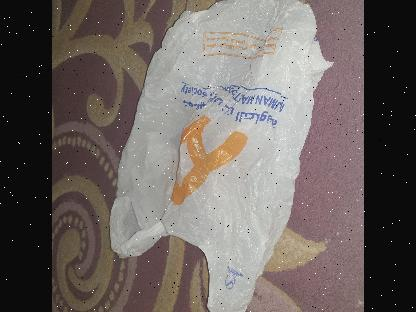Others: (104, 0, 334, 312)
